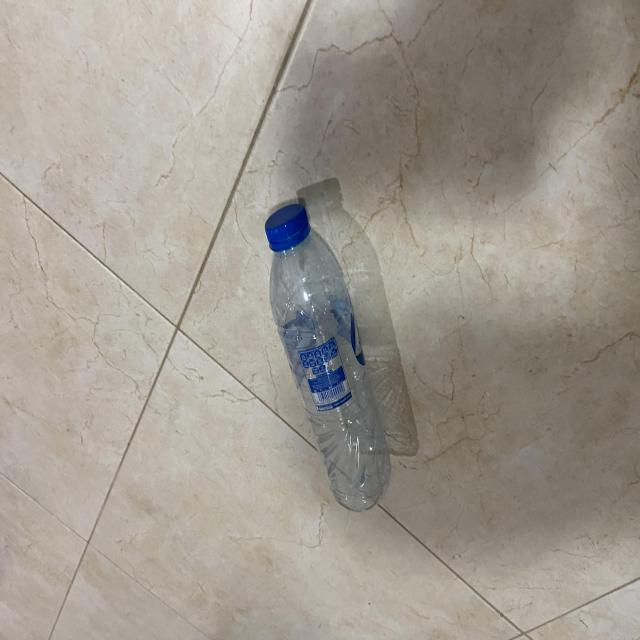bottle: (258, 200, 392, 517)
